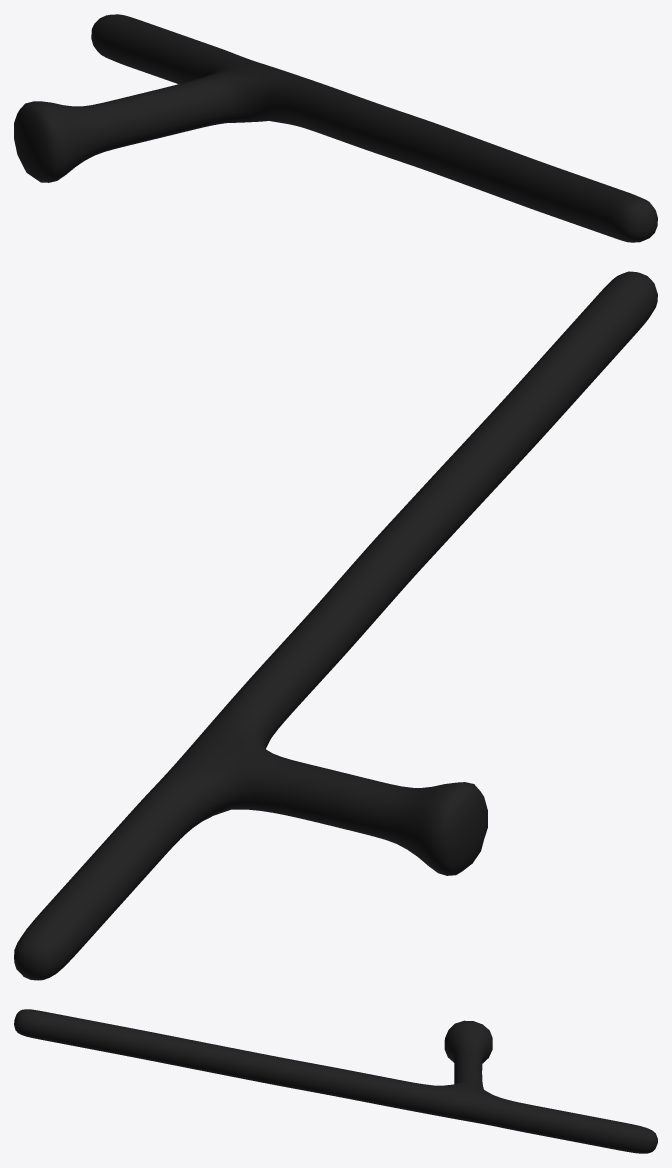
File: baton highpoly.fbx
3 renders of one model, top to bottom at view 1: azimuth 30°, elevation 25°; view 2: azimuth 150°, elevation 25°; view 3: azimuth 270°, elevation 25°, orthographic. The views are drawn at different scales.
Visible parts, largest first — view 1: baton_high_poly1; view 2: baton_high_poly1; view 3: baton_high_poly1.
Boxes of the visible parts, x1,y1,x2,y2 form: baton_high_poly1: (14, 14, 657, 242); baton_high_poly1: (14, 271, 657, 980); baton_high_poly1: (14, 1009, 657, 1153).
Bounding box in the file's own units: 16.85 × 14.95 × 61.69.
Materials: 1 (1 with a texture image).
